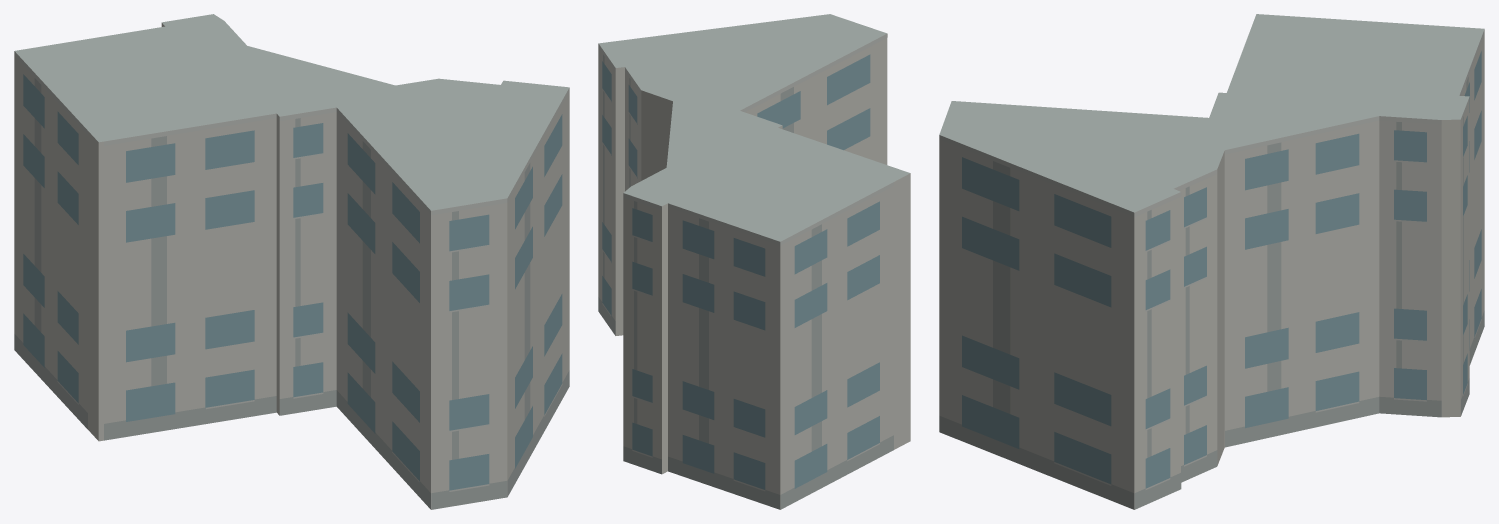
The model's file is survey-upis-33016533.glb.
3 views of the same model, side by side, from view 1: azimuth 30°, elevation 25°; view 2: azimuth 150°, elevation 25°; view 3: azimuth 270°, elevation 25° (orthographic). The views are drawn at different scales.
Parts seen in each view (by area): view 1: survey-upis-33016533.tmp; view 2: survey-upis-33016533.tmp; view 3: survey-upis-33016533.tmp.
Part boxes in pixels (x1,y1,x2,y2): survey-upis-33016533.tmp: (14,14,569,509); survey-upis-33016533.tmp: (598,14,910,509); survey-upis-33016533.tmp: (939,14,1484,509).
Bounding box in the file's own units: 22.29 × 15.55 × 25.86.
